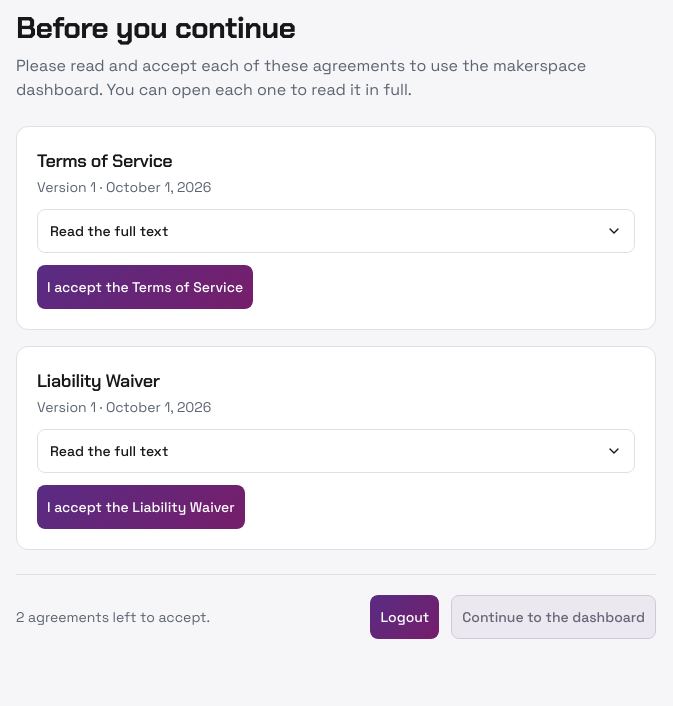
it: AgreementsGate › reloads to show the newer text when an agreement was superseded
Click the button "I accept the Terms of Service" at (145, 287), box [37,265,253,309]
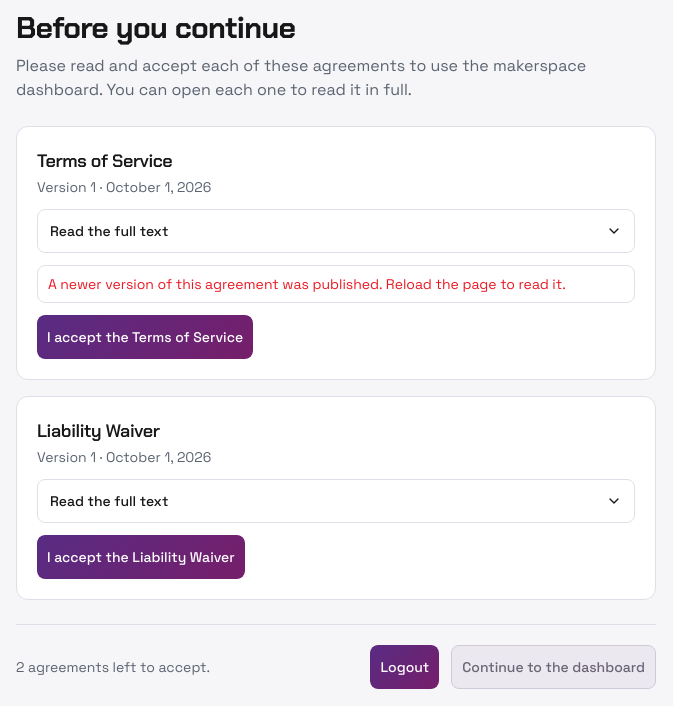
Result: the text "newer version of this agreement" is shown at [48,275,566,293]
